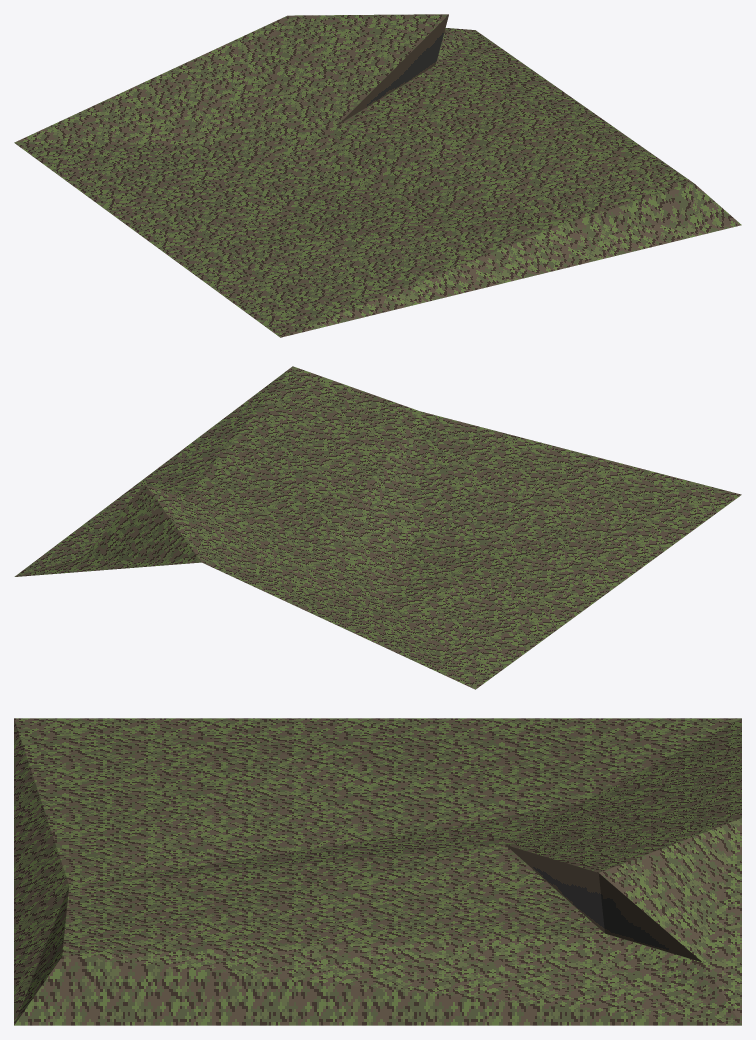
The model's file is generic_land.gltf.
3 views of the same model, one above another, from view 1: azimuth 30°, elevation 25°; view 2: azimuth 150°, elevation 25°; view 3: azimuth 270°, elevation 25° (orthographic). The views are drawn at different scales.
Visible parts, largest first — view 1: cuboid; view 2: cuboid; view 3: cuboid.
Part boxes in pixels (x1,y1,x2,y2): cuboid: [14, 14, 741, 337]; cuboid: [14, 366, 741, 689]; cuboid: [14, 718, 741, 1025].
Bounding box in the file's own units: 20 × 3.04 × 20.
Materials: 1 (1 with a texture image).
